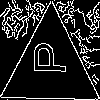P: (25, 41, 66, 75)
